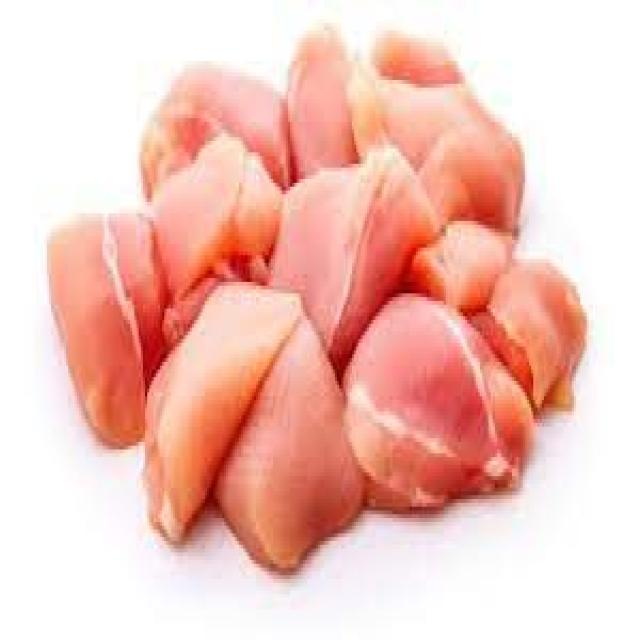Chicken: (41, 39, 594, 574)
